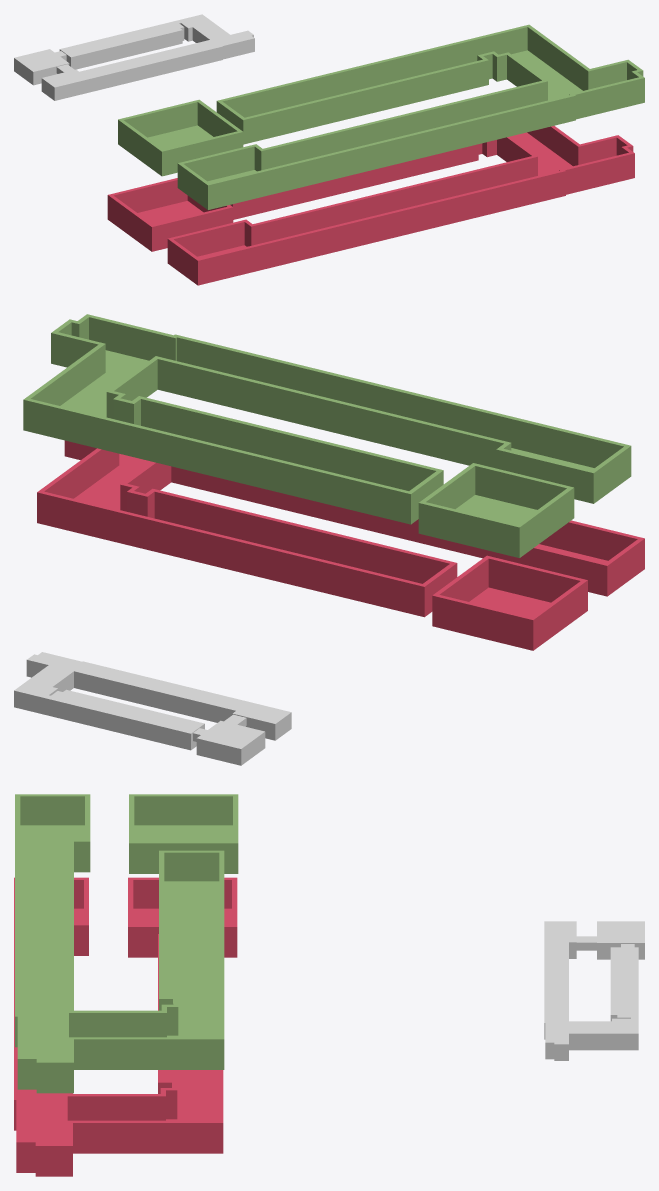
File: aiueo.glb
3 renders of one model, top to bottom at view 1: azimuth 30°, elevation 25°; view 2: azimuth 150°, elevation 25°; view 3: azimuth 270°, elevation 25°, orthographic. The views are drawn at different scales.
Visible parts, largest first — view 1: F2, F1, Cube; view 2: F2, F1, Cube; view 3: F2, F1, Cube.
Part boxes in pixels (left/top/right/bottom): F2: left=118, top=24, right=644, bottom=209; F1: left=107, top=125, right=634, bottom=285; Cube: left=14, top=14, right=254, bottom=100; F2: left=23, top=314, right=631, bottom=557; F1: left=37, top=440, right=644, bottom=650; Cube: left=14, top=652, right=291, bottom=765; F2: left=15, top=794, right=238, bottom=1093; F1: left=14, top=877, right=237, bottom=1176; Cube: left=544, top=921, right=644, bottom=1060.
Size of the model in its own units: 10.6 by 2.17 by 10.29.
